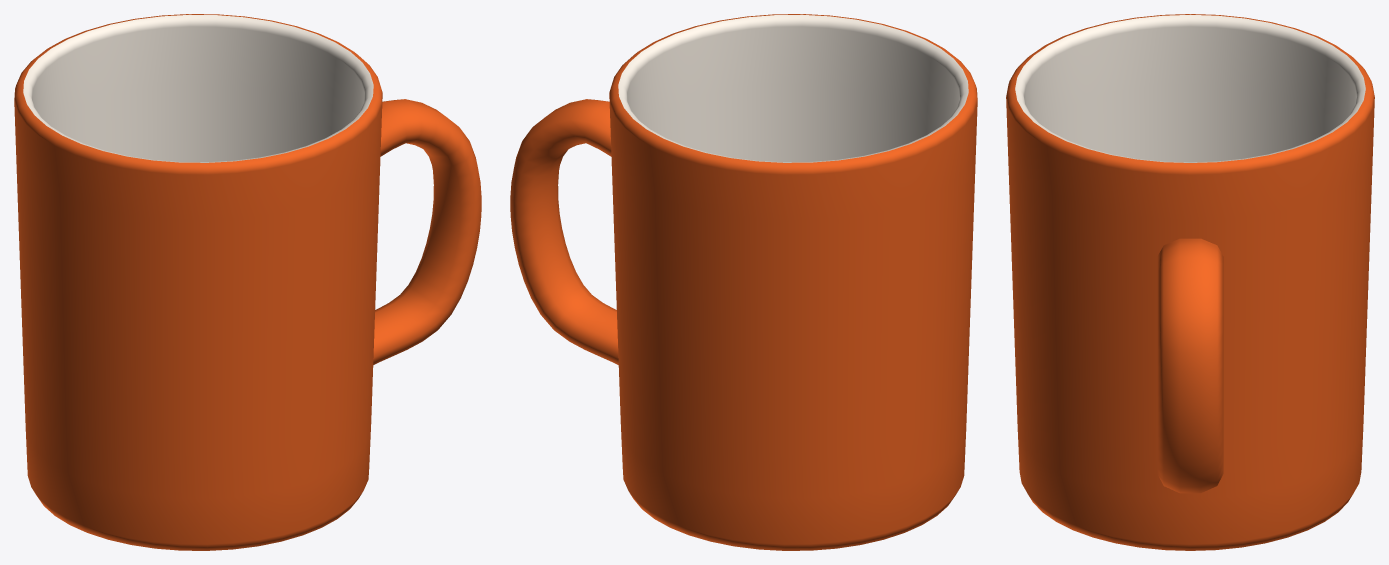
Rendered from coffee-cup-baf4d2ac.glb.
3 renders of one model, left to right at view 1: azimuth 30°, elevation 25°; view 2: azimuth 150°, elevation 25°; view 3: azimuth 270°, elevation 25°, orthographic.
Visible parts, largest first — view 1: body, inside, handle; view 2: body, inside, handle; view 3: body, inside, handle.
Part boxes in pixels (x1,y1,x2,y2): body: (14, 14, 382, 550); inside: (23, 14, 373, 162); handle: (373, 99, 481, 364); body: (609, 14, 977, 550); inside: (618, 14, 968, 162); handle: (510, 99, 618, 364); body: (1006, 14, 1374, 550); inside: (1015, 14, 1365, 162); handle: (1157, 238, 1223, 493).
Size of the model in its own units: 0.1119 by 0.097 by 0.082.
